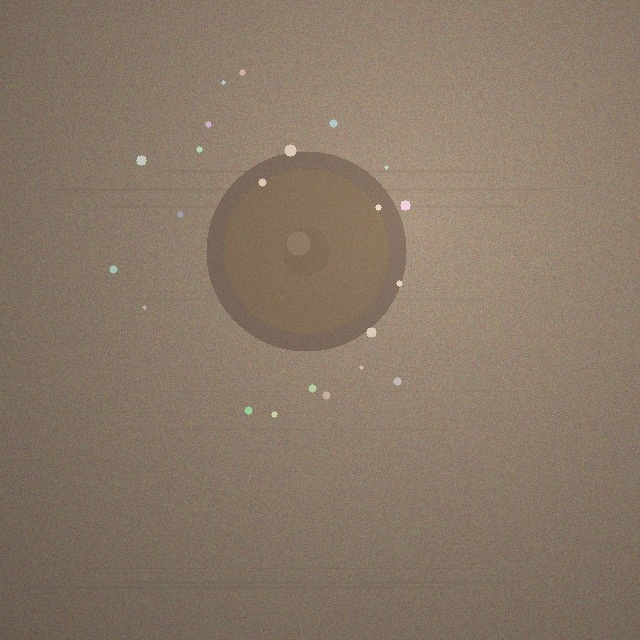overburn: (206, 151, 406, 351)
